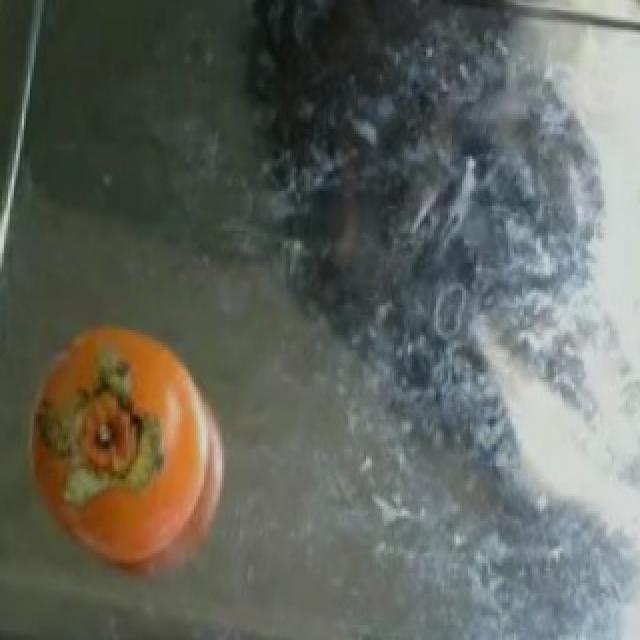Fruit: (4, 308, 230, 598)
